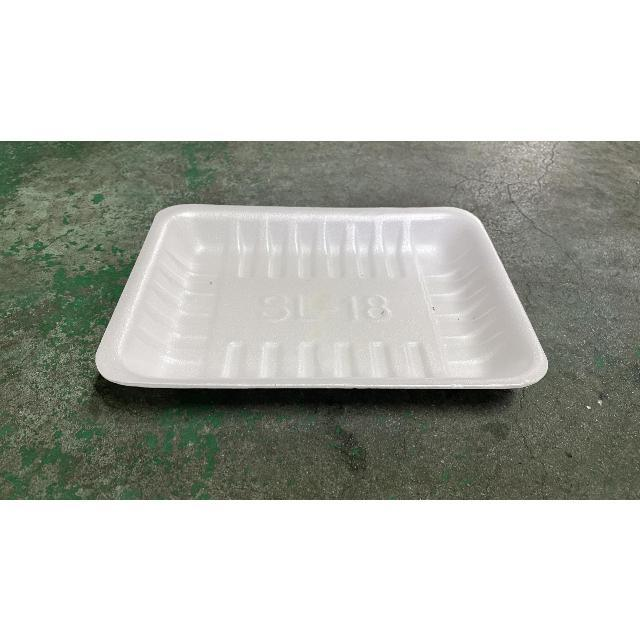Recipiente plastico: (96, 204, 548, 388)
